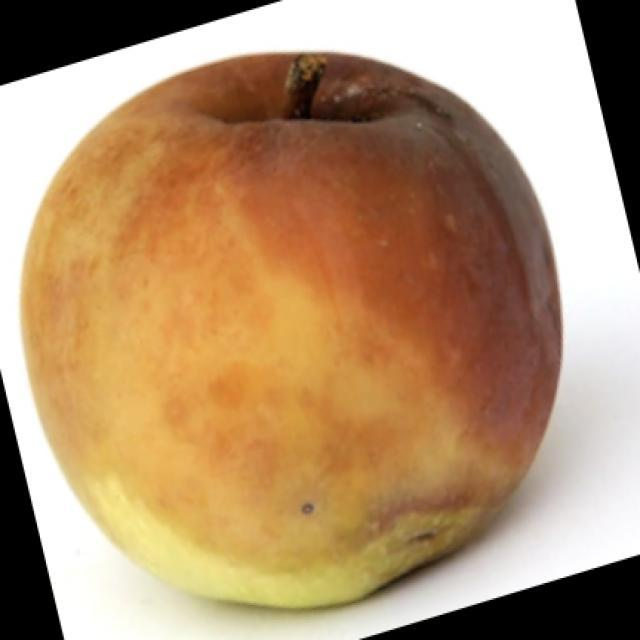Rotten: (30, 45, 533, 582)
